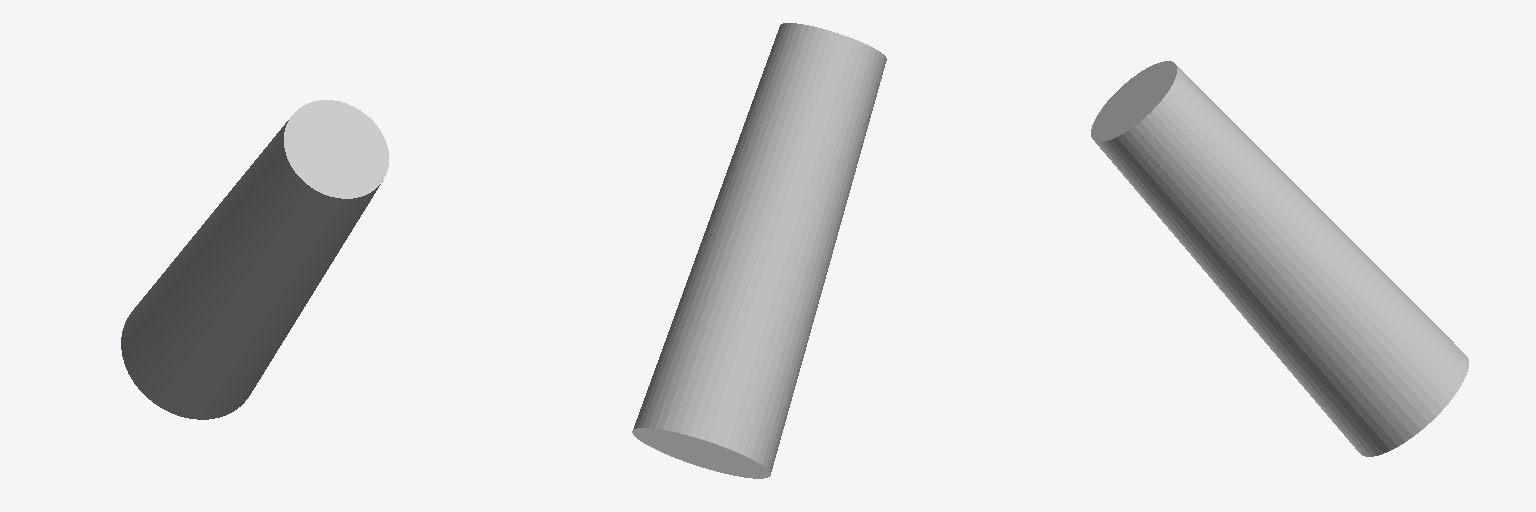
File: Right Lower Arm.obj
The picture shows the model from 3 angles: view 1: azimuth 30°, elevation 25°; view 2: azimuth 150°, elevation 25°; view 3: azimuth 270°, elevation 25°; orthographic projection.
Parts seen in each view (by area): view 1: Right_Lower_Arm_Sphere.057; view 2: Right_Lower_Arm_Sphere.057; view 3: Right_Lower_Arm_Sphere.057.
Boxes of the visible parts, x1=… form: Right_Lower_Arm_Sphere.057: x1=121, y1=100, x2=388, y2=419; Right_Lower_Arm_Sphere.057: x1=632, y1=23, x2=886, y2=478; Right_Lower_Arm_Sphere.057: x1=1091, y1=61, x2=1468, y2=456.
Bounding box in the file's own units: 0.3955 × 1.15 × 1.03.